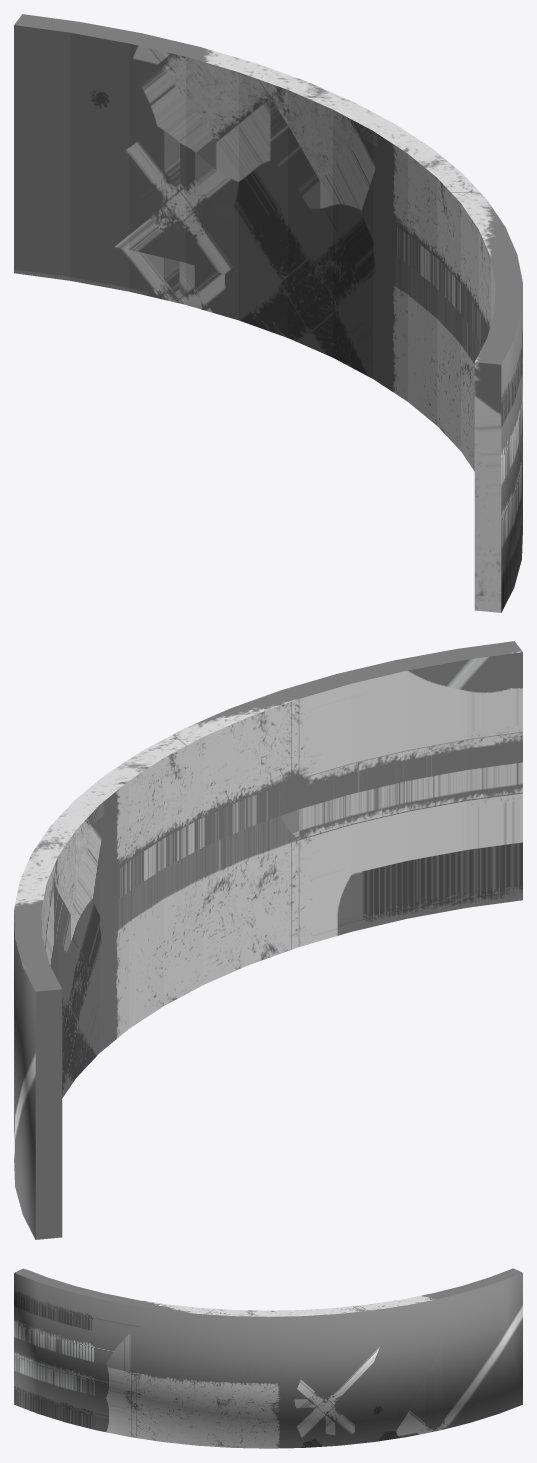
3 views of the same model, one above another, from view 1: azimuth 30°, elevation 25°; view 2: azimuth 150°, elevation 25°; view 3: azimuth 270°, elevation 25° (orthographic). The views are drawn at different scales.
Visible parts, largest first — view 1: probe; view 2: probe; view 3: probe.
Part boxes in pixels (x1=…): probe: x1=14, y1=14, x2=522, y2=612; probe: x1=14, y1=641, x2=522, y2=1239; probe: x1=14, y1=1268, x2=522, y2=1448.
Size of the model in its own units: 0.7899 by 1 by 3.5.
